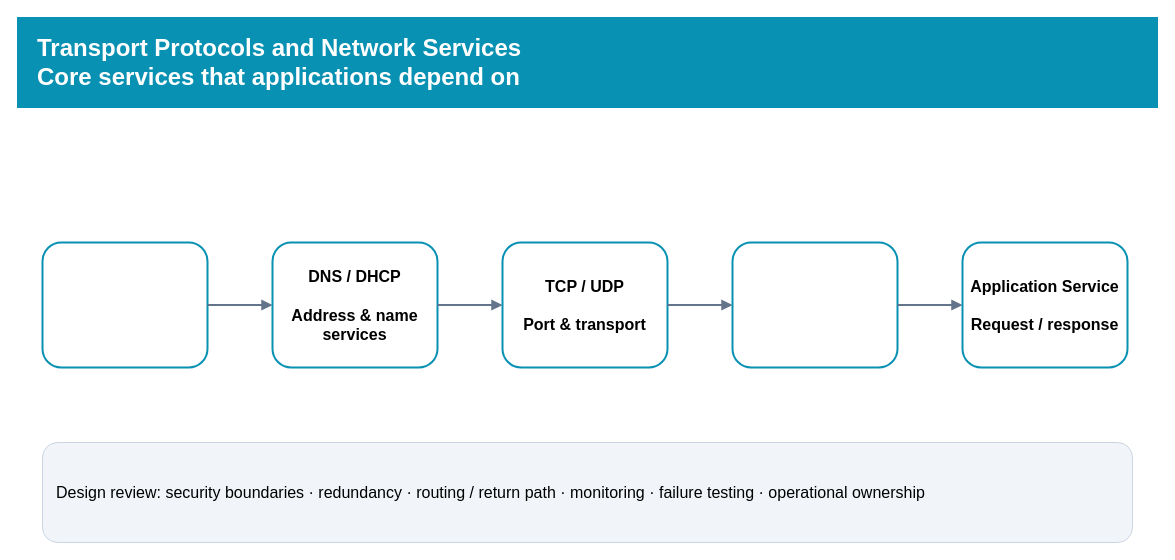
This 1175x560 diagram has some shape labels left out. The shapes that lost their labels are listed below. From the top down, each one's box as (x1, y1, x2, y2) in pixels, then its label:
(41, 241, 208, 368): Client Resolver Name / IP request
(731, 241, 898, 368): TLS / HTTP(S) Secure session
